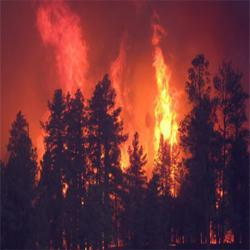fire: (152, 62, 181, 141), (57, 24, 91, 89)
